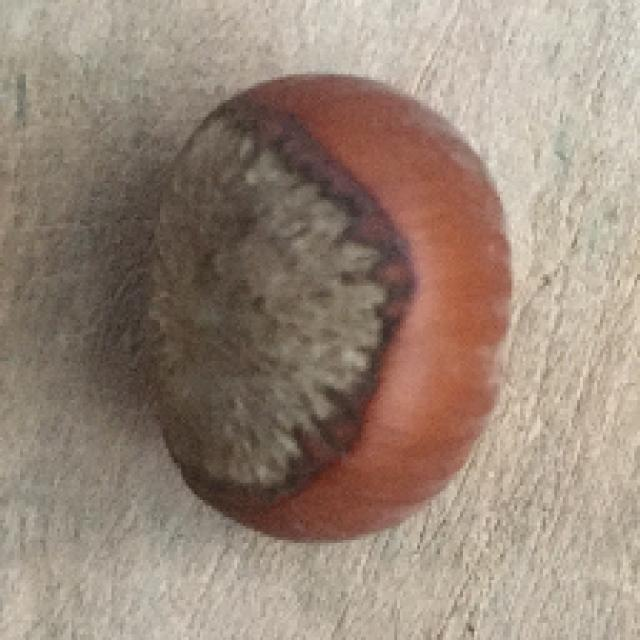qualityHazelnut: (134, 71, 516, 548)
